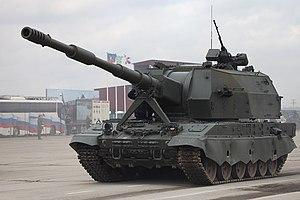sau: (13, 18, 298, 181)
